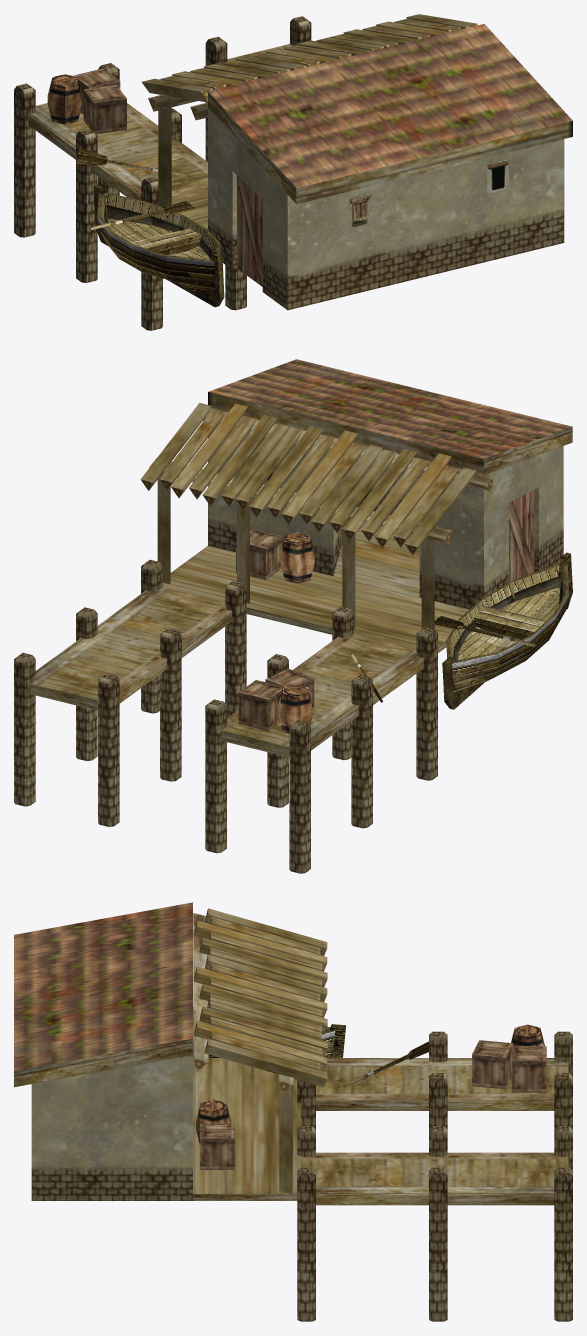
Rendered from iber_dock.glb.
3 views of the same model, one above another, from view 1: azimuth 30°, elevation 25°; view 2: azimuth 150°, elevation 25°; view 3: azimuth 270°, elevation 25° (orthographic).
Visible parts, largest first — view 1: iber_dock_part0, iber_dock_part1; view 2: iber_dock_part0, iber_dock_part1; view 3: iber_dock_part0, iber_dock_part1.
Part boxes in pixels (box(x1,y1,x2,y2)): iber_dock_part0: box(14, 14, 572, 330); iber_dock_part1: box(76, 147, 224, 307); iber_dock_part0: box(14, 359, 572, 873); iber_dock_part1: box(351, 552, 572, 709); iber_dock_part0: box(14, 902, 572, 1321); iber_dock_part1: box(193, 1006, 428, 1085).
Size of the model in its own units: 3.7 by 2.64 by 4.8.
Materials: 2 (2 with a texture image).
